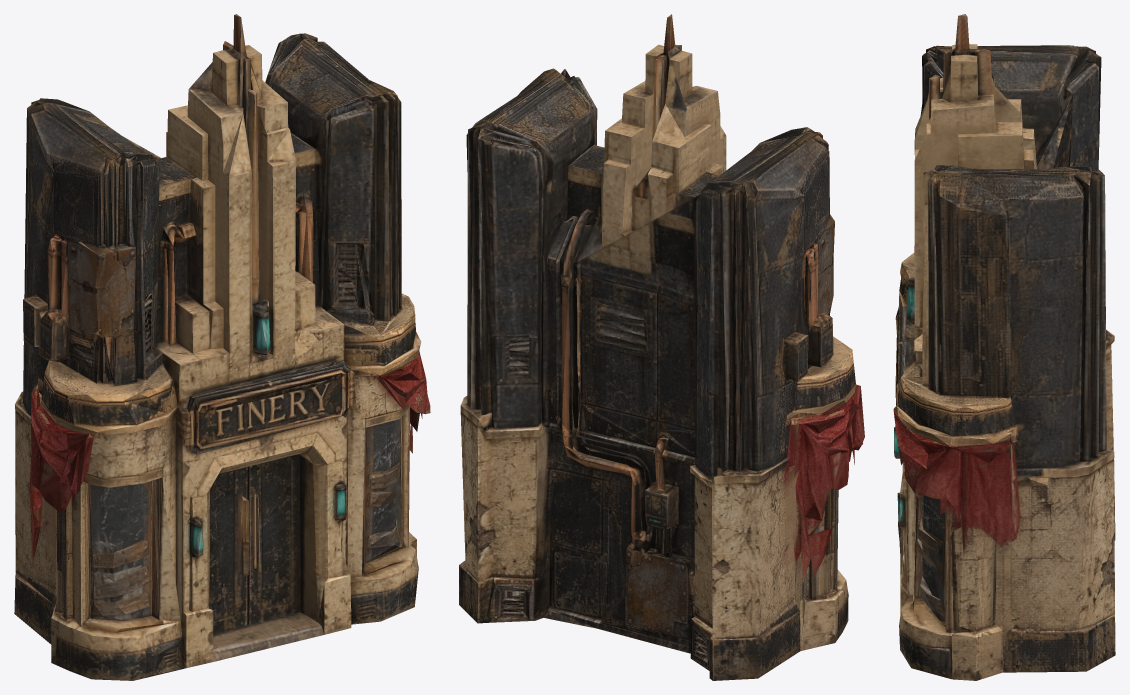
Rendered from finery.glb.
The picture shows the model from 3 angles, left to right: view 1: azimuth 30°, elevation 25°; view 2: azimuth 150°, elevation 25°; view 3: azimuth 270°, elevation 25°; orthographic projection. The views are drawn at different scales.
Bounding box in the file's own units: 1.21 × 1.9 × 0.6559.
Materials: 1 (1 with a texture image).
